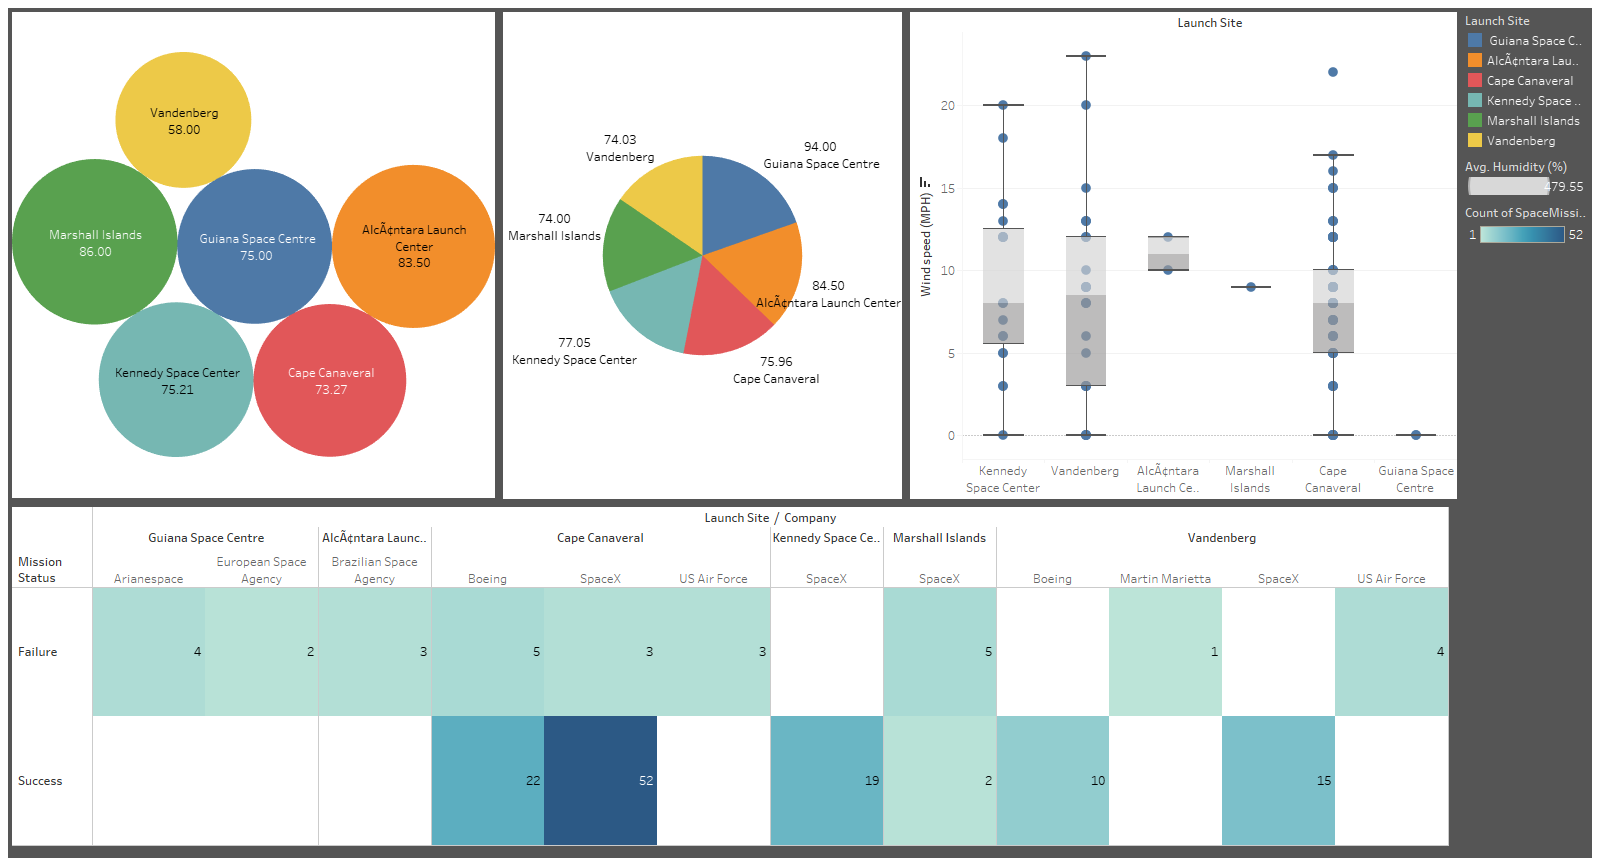

The page's visual inventory and layout, read from the dashboard file:
{"tool":"tableau","page":{"name":"Dashboard 1","canvas":[1000,1000],"units":"permille","ordinal":0},"visuals":[{"type":"worksheet","title":"Launch Site Temperature","mark":"Circle","box":[5,9.2,307.1,569.5]},{"type":"worksheet","title":"Launch Site Humidity","mark":"Pie","box":[312.1,9.2,254.3,569.5]},{"type":"worksheet","title":"Launch Site Windspeeds","mark":"Circle","rows":["Wind speed (MPH)"],"cols":["Launch Site"],"box":[566.4,9.2,346.8,569.5]},{"type":"legend","title":"Launch Site Temperature","param":"[federated.1jge4w916f9qkq1b7jlyw0vfbot0].[none:Launch Site:nk]","box":[913.1,9.2,81.9,167.8]},{"type":"legend","title":"Launch Site Humidity","param":"[federated.1jge4w916f9qkq1b7jlyw0vfbot0].[avg:Humidity (%):qk]","box":[913.1,177,81.9,52.9]},{"type":"legend","title":"Track Records","param":"[federated.1jge4w916f9qkq1b7jlyw0vfbot0].[__tableau_internal_object_id__].[cnt:S","box":[913.1,229.9,81.9,74.7]},{"type":"worksheet","title":"Track Records","mark":"Square","rows":["Mission Status"],"cols":["Launch Site","Company"],"box":[5,578.7,908.1,412.1]}]}

Visuals, with their boxes on the dashboard's canvas, which has no fixed pixel size, in thousandths of its width and height (x1, y1, x2, y2). These are canvas units, not pixel positions in the 1600x858 screenshot, which may show the page scaled, cropped or inside an application window:
"Launch Site Temperature" worksheet (Circle marks): [5, 9, 312, 579]
"Launch Site Humidity" worksheet (Pie marks): [312, 9, 566, 579]
"Launch Site Windspeeds" worksheet (Circle marks): [566, 9, 913, 579]
"Launch Site Temperature" legend: [913, 9, 995, 177]
"Launch Site Humidity" legend: [913, 177, 995, 230]
"Track Records" legend: [913, 230, 995, 305]
"Track Records" worksheet (Square marks): [5, 579, 913, 991]
